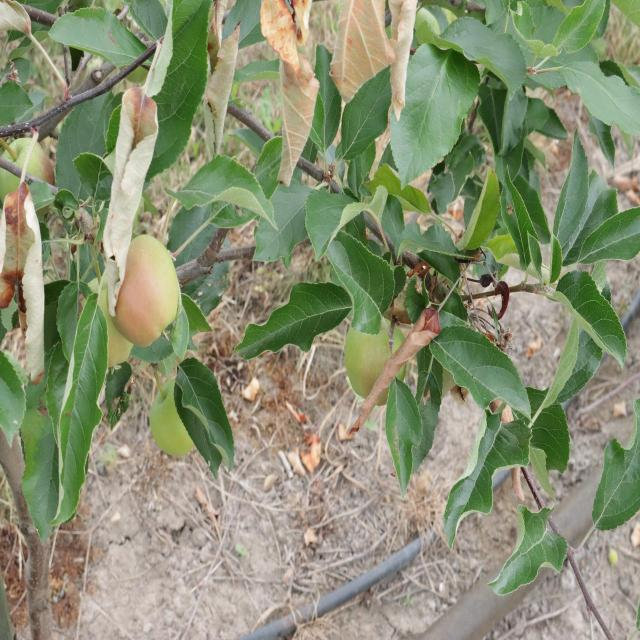-FireBlight-: (257, 0, 421, 185), (342, 299, 444, 439), (106, 89, 164, 318), (0, 182, 44, 388)
